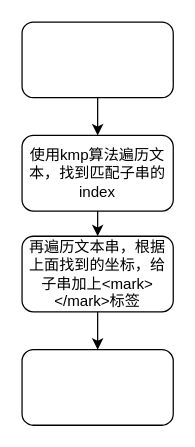
Image size: 195x447. Some labels were removed from this diagram. The centre of each missing label's shape, as x and y in pixels:
将html元素替换为新的加完标签的子串: the point at 97,386
读取要搜索的子串: the point at 97,59
